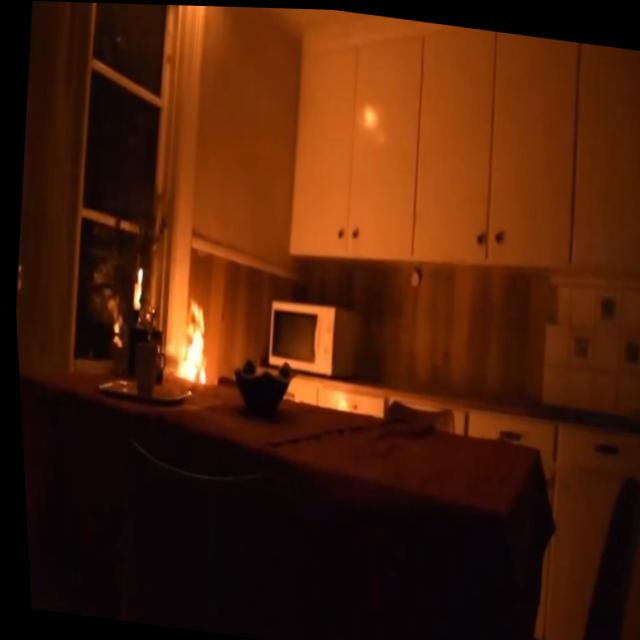fire: (164, 290, 213, 389), (132, 262, 142, 285)
